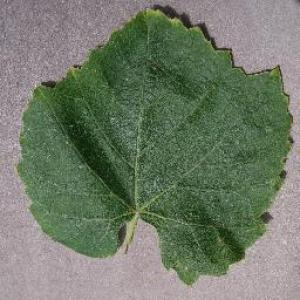Folha: (15, 3, 294, 286)
